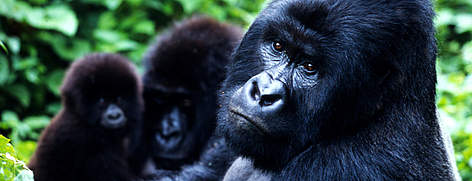Goriila: (218, 1, 457, 181), (140, 7, 241, 176), (34, 24, 143, 176)
